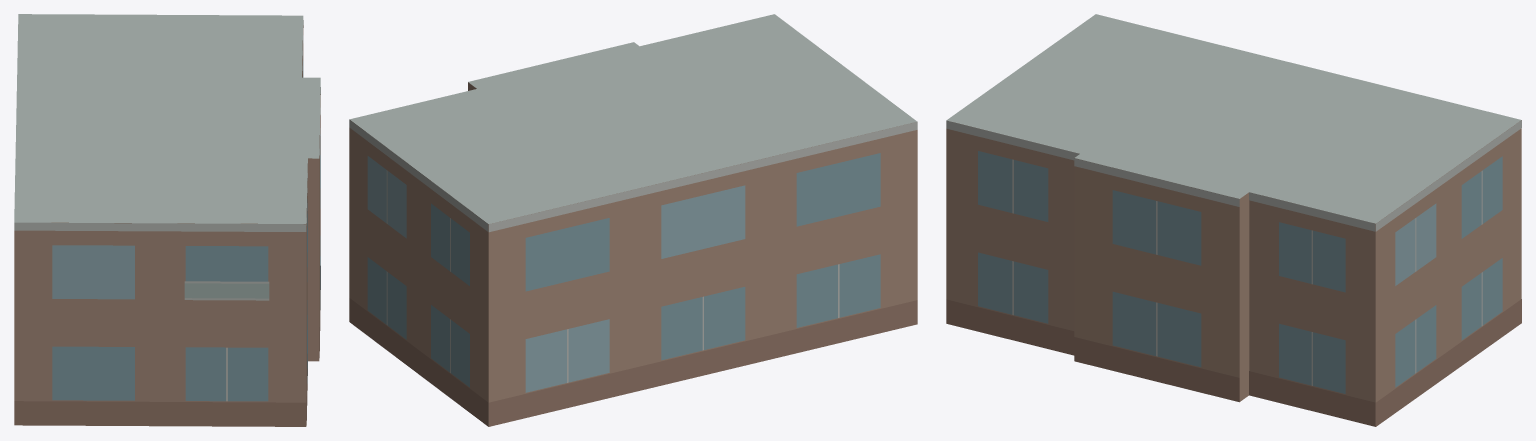
File: survey-upis-32708968.glb
The picture shows the model from 3 angles, left to right: view 1: azimuth 30°, elevation 25°; view 2: azimuth 150°, elevation 25°; view 3: azimuth 270°, elevation 25°; orthographic projection.
Parts seen in each view (by area): view 1: survey-upis-32708968.tmp; view 2: survey-upis-32708968.tmp; view 3: survey-upis-32708968.tmp.
Part boxes in pixels (x1,y1,x2,y2): survey-upis-32708968.tmp: (14,14,320,426); survey-upis-32708968.tmp: (349,14,917,426); survey-upis-32708968.tmp: (946,14,1521,426).
Bounding box in the file's own units: 13.51 × 6.1 × 15.67.
